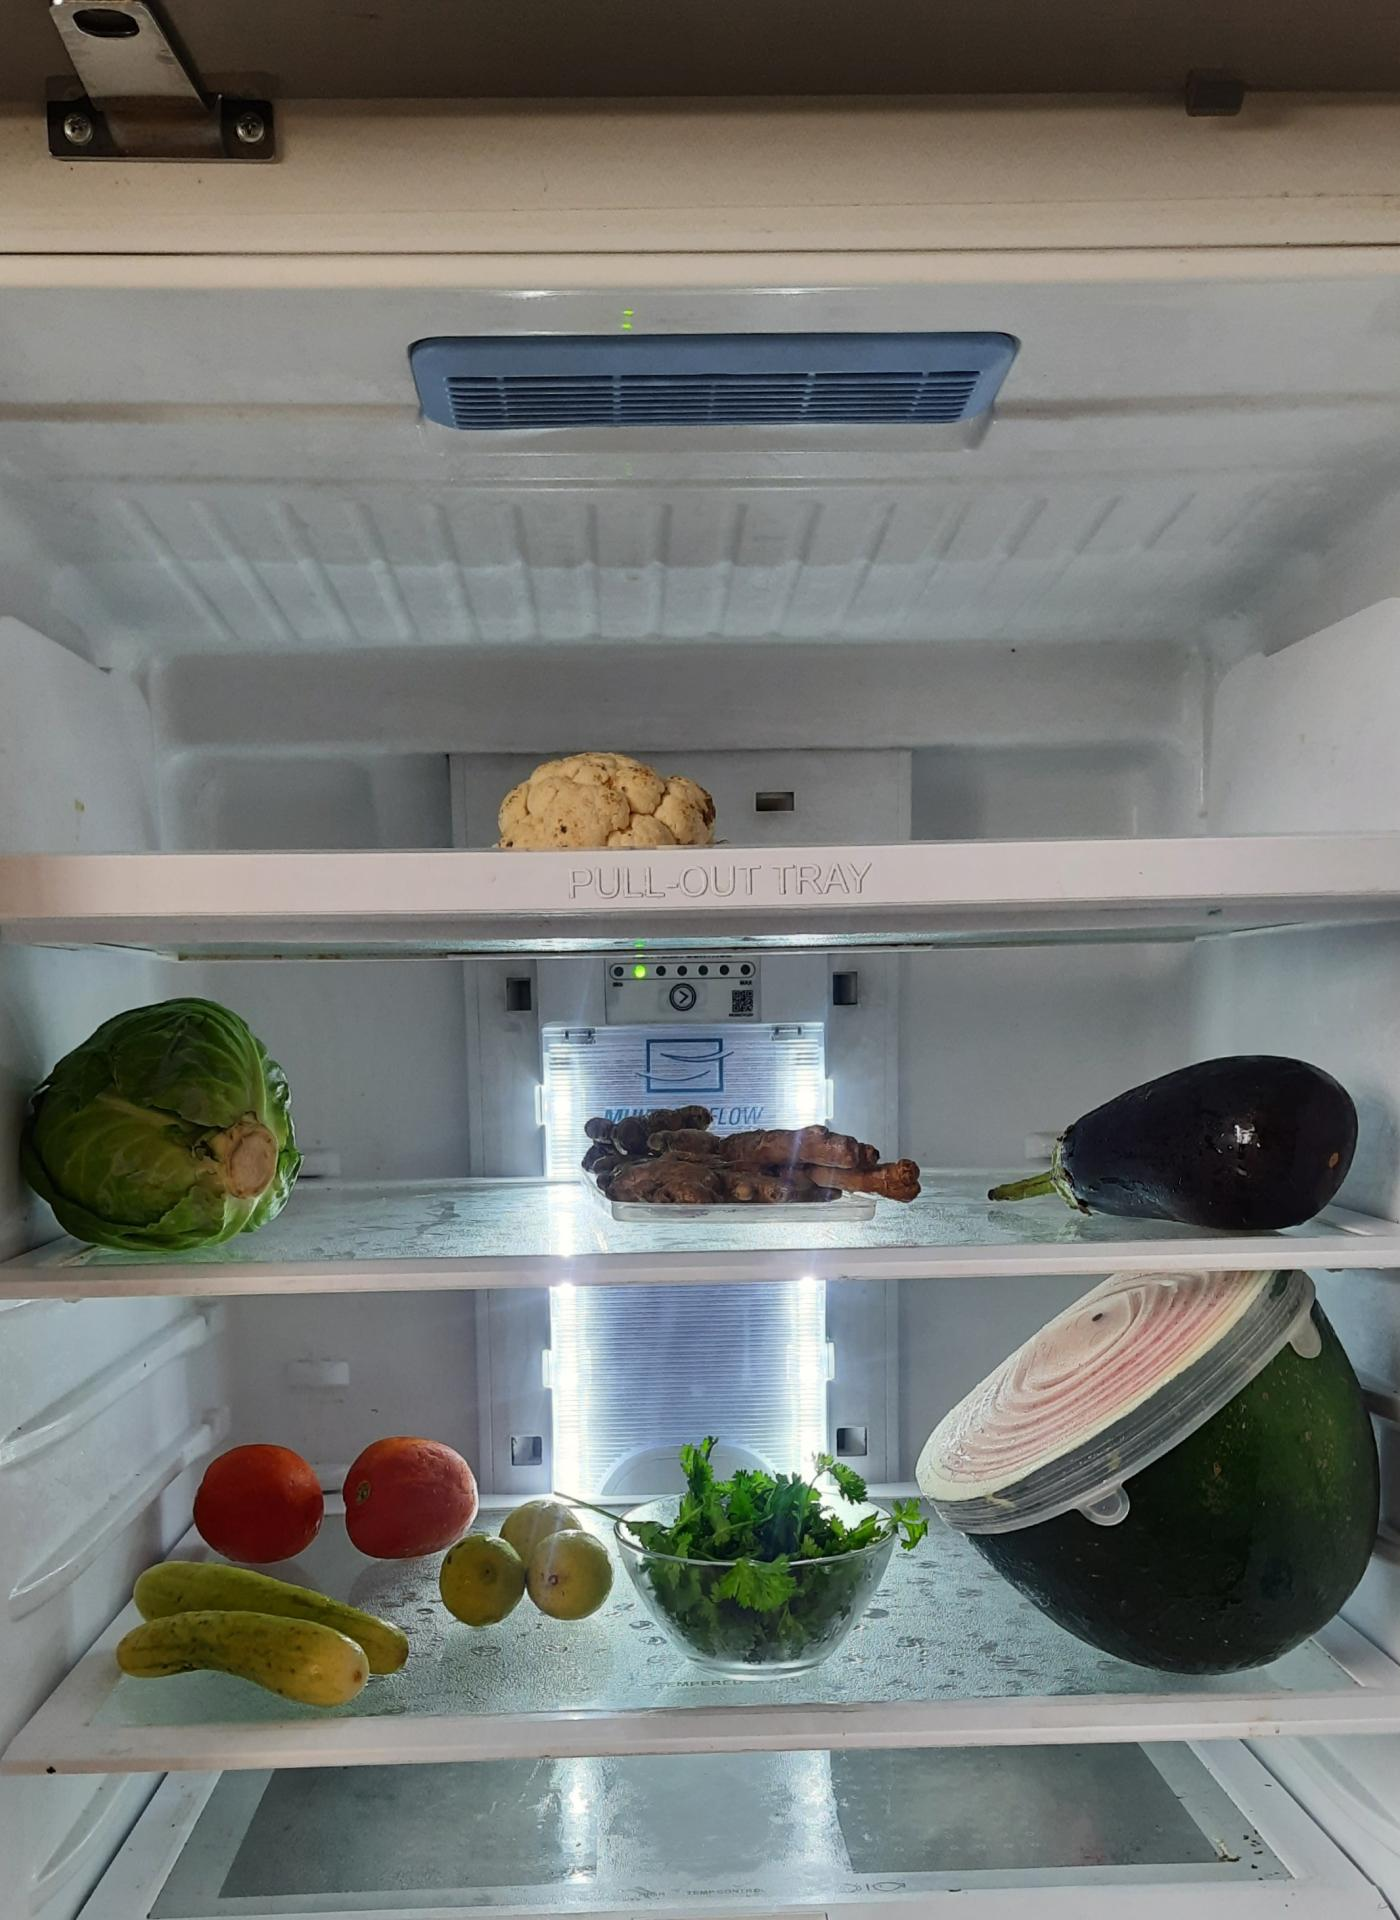brinjal: (1003, 1057, 1360, 1237)
cabbage: (24, 994, 301, 1246)
cauliflower: (491, 747, 729, 856)
coriander: (629, 1449, 908, 1662)
cucumber: (122, 1571, 420, 1705)
ginger: (578, 1091, 930, 1210)
lemon: (443, 1503, 614, 1623)
tomato: (198, 1428, 486, 1565), (349, 1428, 485, 1562), (191, 1436, 319, 1570)
watermelon: (911, 1272, 1393, 1670)
